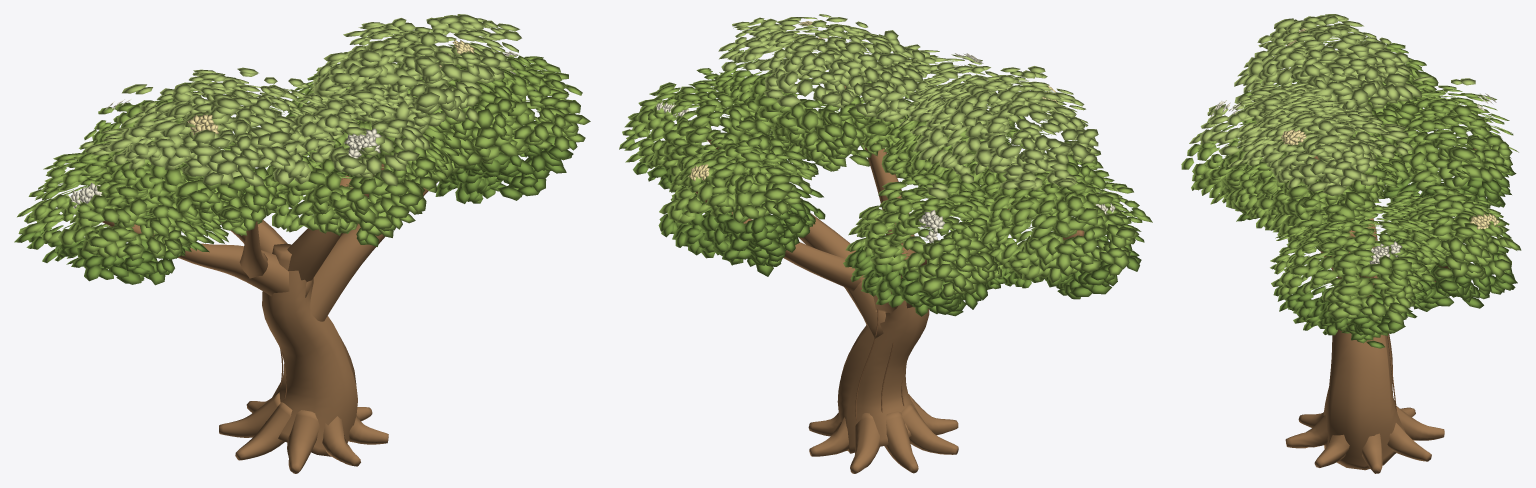
The model's file is courtyard_tree_hero.fbx.
3 renders of one model, left to right at view 1: azimuth 30°, elevation 25°; view 2: azimuth 150°, elevation 25°; view 3: azimuth 270°, elevation 25°, orthographic. The views are drawn at different scales.
Visible parts, largest first — view 1: courtyard_tree_hero • Hero foliage • middle green, courtyard_tree_hero • Hero foliage • sunlit green, courtyard_tree_hero • Courtyard bark • warm ochre, courtyard_tree_hero • Hero foliage • sheltered green, courtyard_tree_hero • Hero blossom • pale cream, courtyard_tree_hero • Hero blossom • butter yellow; view 2: courtyard_tree_hero • Hero foliage • middle green, courtyard_tree_hero • Hero foliage • sunlit green, courtyard_tree_hero • Courtyard bark • warm ochre, courtyard_tree_hero • Hero foliage • sheltered green, courtyard_tree_hero • Hero blossom • pale cream; view 3: courtyard_tree_hero • Hero foliage • middle green, courtyard_tree_hero • Hero foliage • sunlit green, courtyard_tree_hero • Courtyard bark • warm ochre, courtyard_tree_hero • Hero foliage • sheltered green, courtyard_tree_hero • Hero blossom • butter yellow, courtyard_tree_hero • Hero blossom • pale cream.
Boxes of the visible parts, x1=… form: courtyard_tree_hero • Hero foliage • middle green: x1=17, y1=44, x2=590, y2=260; courtyard_tree_hero • Hero foliage • sunlit green: x1=80, y1=14, x2=521, y2=186; courtyard_tree_hero • Courtyard bark • warm ochre: x1=102, y1=108, x2=438, y2=473; courtyard_tree_hero • Hero foliage • sheltered green: x1=14, y1=101, x2=577, y2=285; courtyard_tree_hero • Hero blossom • pale cream: x1=70, y1=51, x2=517, y2=208; courtyard_tree_hero • Hero blossom • butter yellow: x1=187, y1=39, x2=474, y2=135; courtyard_tree_hero • Hero foliage • middle green: x1=619, y1=43, x2=1152, y2=297; courtyard_tree_hero • Hero foliage • sunlit green: x1=718, y1=14, x2=1098, y2=198; courtyard_tree_hero • Courtyard bark • warm ochre: x1=695, y1=86, x2=1084, y2=473; courtyard_tree_hero • Hero foliage • sheltered green: x1=633, y1=115, x2=1144, y2=316; courtyard_tree_hero • Hero blossom • pale cream: x1=656, y1=53, x2=1115, y2=243; courtyard_tree_hero • Hero foliage • middle green: x1=1181, y1=42, x2=1521, y2=324; courtyard_tree_hero • Hero foliage • sunlit green: x1=1189, y1=14, x2=1475, y2=195; courtyard_tree_hero • Courtyard bark • warm ochre: x1=1285, y1=148, x2=1476, y2=473; courtyard_tree_hero • Hero foliage • sheltered green: x1=1236, y1=144, x2=1517, y2=348; courtyard_tree_hero • Hero blossom • butter yellow: x1=1280, y1=28, x2=1500, y2=229; courtyard_tree_hero • Hero blossom • pale cream: x1=1210, y1=93, x2=1496, y2=264.
Size of the model in its own units: 7.98 by 5.82 by 4.65.
